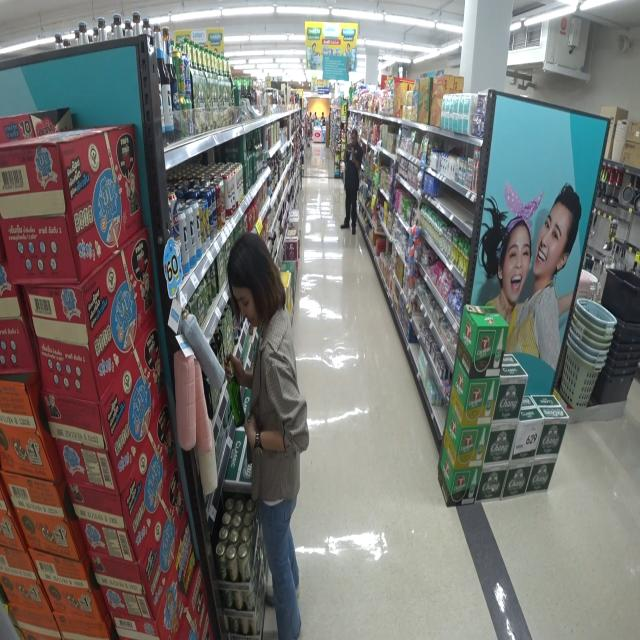shoplifting: (219, 237, 312, 640)
